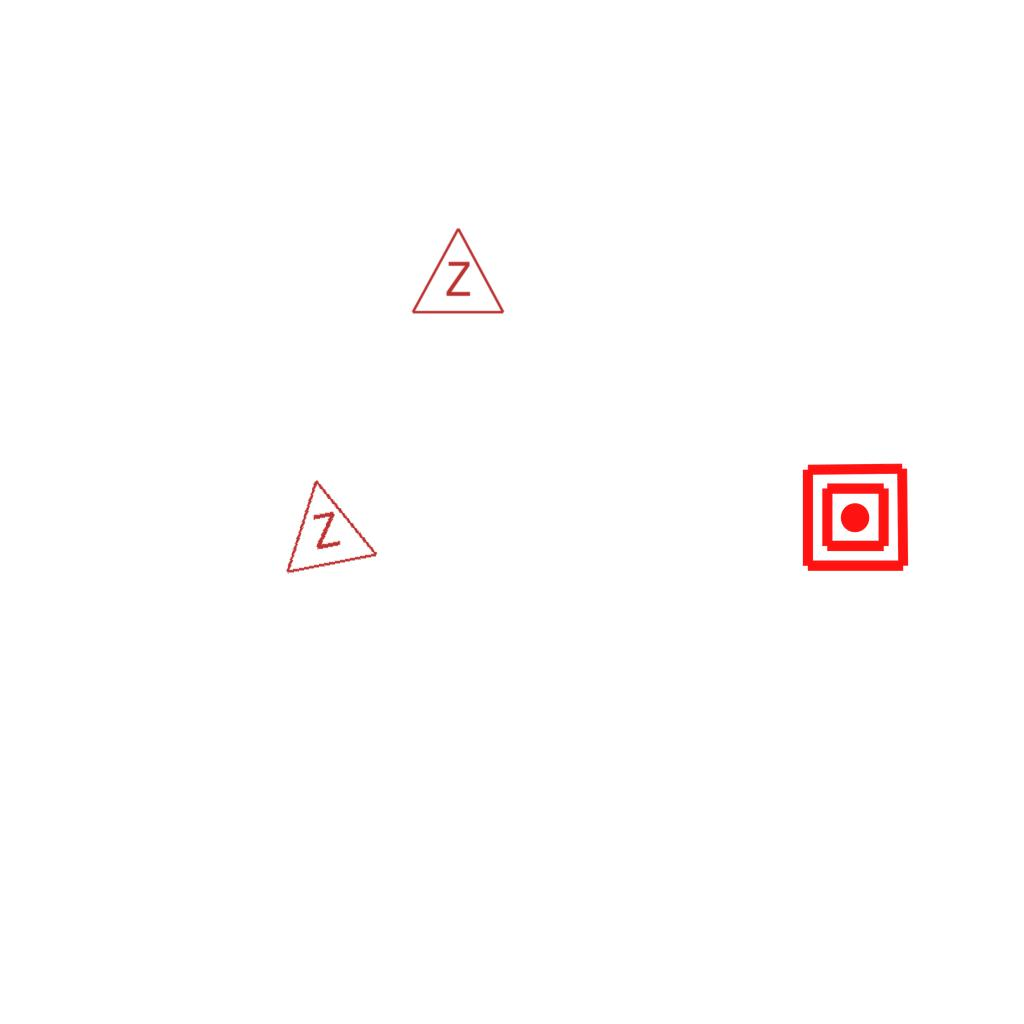NAM-Nichtautomatischer_Melder: (799, 461, 912, 574)
Zimmersignalleuchte: (265, 464, 381, 582), (408, 221, 506, 321)
